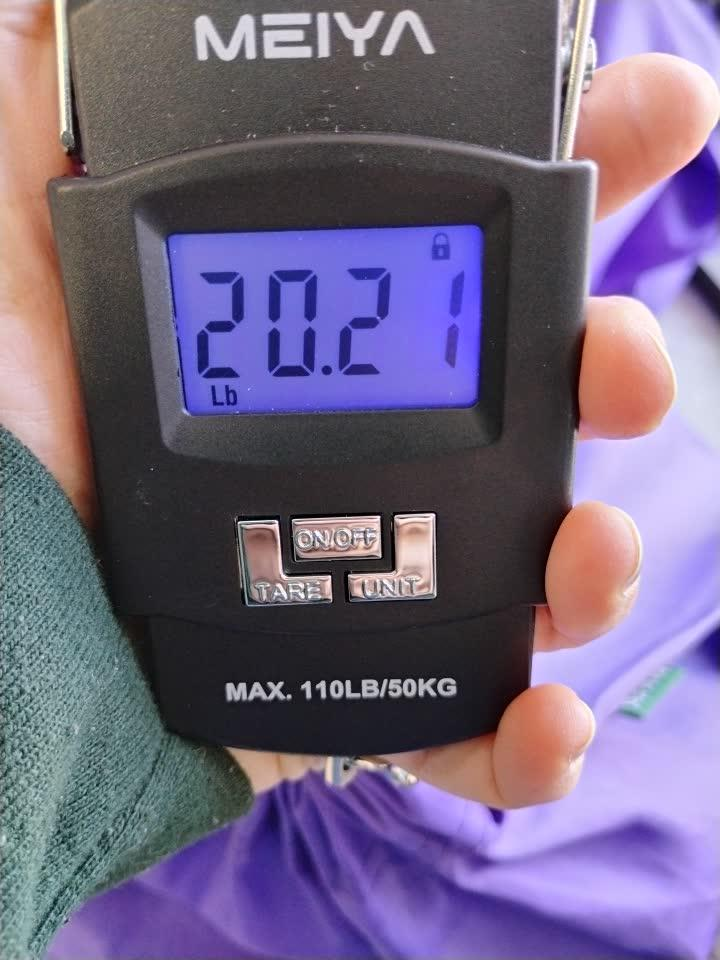LED-display: (161, 216, 493, 408)
